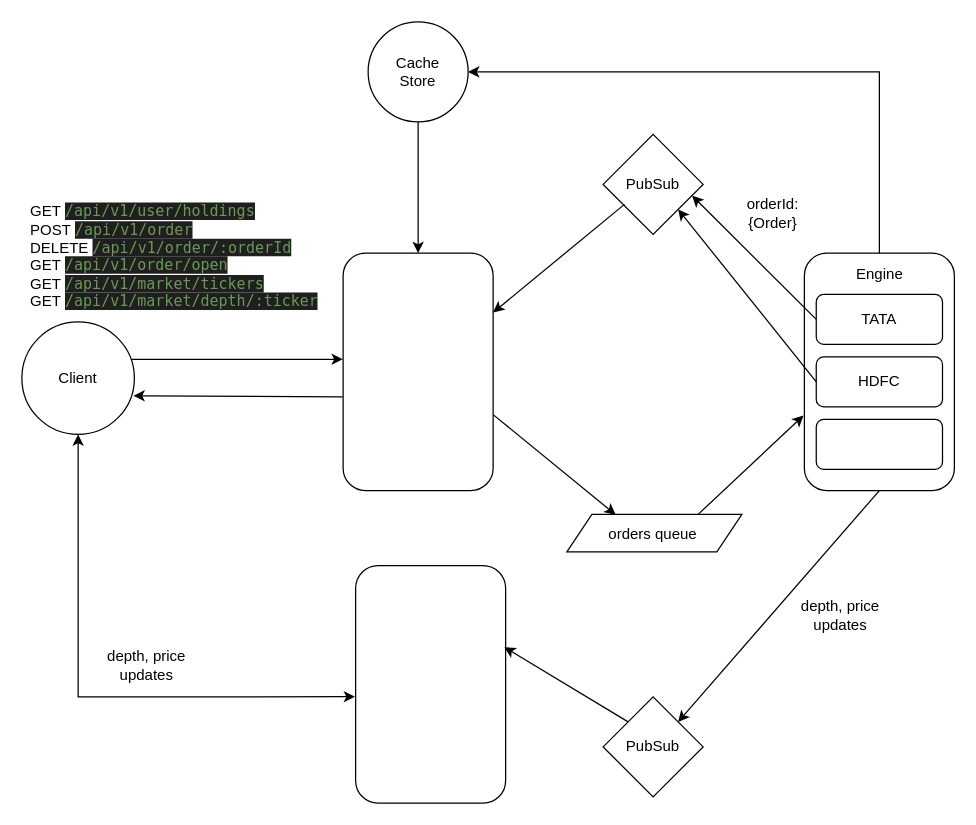
Image size: 976x825. Some labels were removed from this diagram. Here are the shapes that lost their labels. From the top down, the centre of each, then its label:
At [417,371]: "API server".
At [878,443]: "ICICI".
At [430,683]: "Web Socket server".
